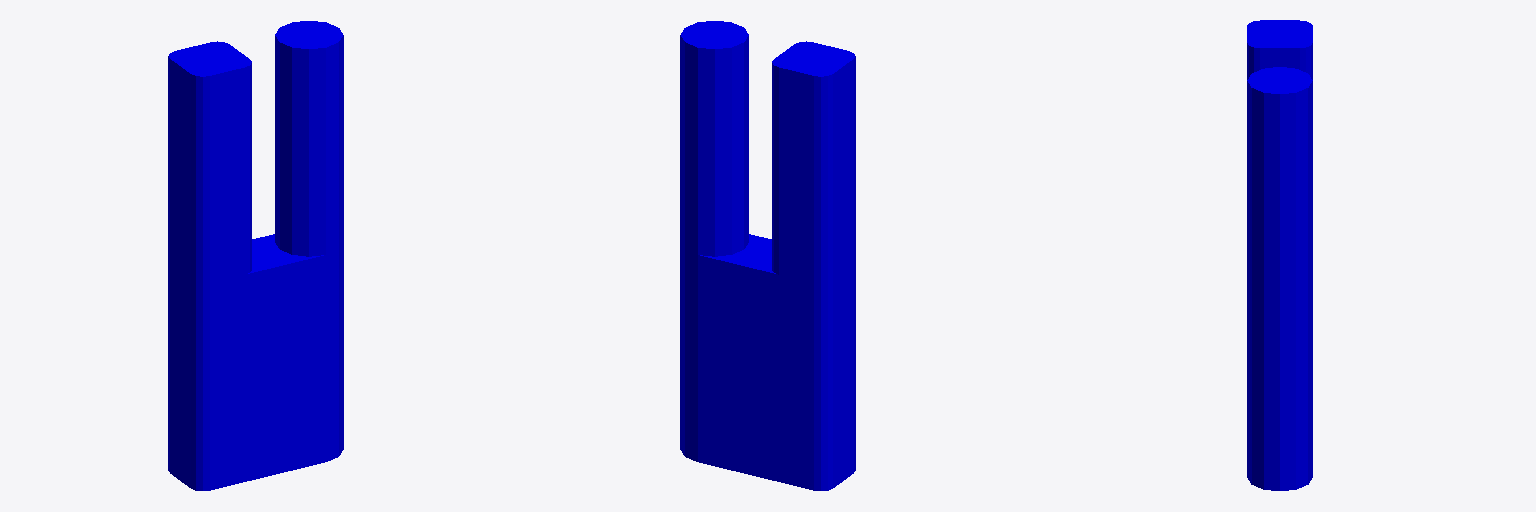
URDF robot description (Small_Short_SquareCircle_DarkBlue):
<?xml version="1.0"?>
<robot name="Small_Short_SquareCircle_DarkBlue">
    <link name="Small_Short_SquareCircle_DarkBlue">
        <visual>
            <geometry>
                <mesh filename="../mesh/factory_insertion/Small_Short_SquareCircle_DarkBlue.obj" scale="0.001 0.001 0.001"/>
            </geometry>
            <material name="DarkBlue">
              <color rgba="0 0 1.0 0"/>
            </material>
        </visual>
        <collision>
            <geometry>
                <mesh filename="../mesh/factory_insertion/Small_Short_SquareCircle_DarkBlue.obj" scale="0.001 0.001 0.001"/>
            </geometry>
            <sdf resolution="512"/>
        </collision>
    </link>
</robot>

--- Render facts (derived) ---
3 views of the same robot in one strip: view 1: azimuth 30°, elevation 25°; view 2: azimuth 150°, elevation 25°; view 3: azimuth 270°, elevation 25° (orthographic).
Model Small_Short_SquareCircle_DarkBlue with 1 links and 0 joints (none), rooted at Small_Short_SquareCircle_DarkBlue, posed every joint at zero.
Visible links, largest first — view 1: Small_Short_SquareCircle_DarkBlue; view 2: Small_Short_SquareCircle_DarkBlue; view 3: Small_Short_SquareCircle_DarkBlue.
Boxes of the visible links, bbox=[...] form: Small_Short_SquareCircle_DarkBlue: bbox=[168, 21, 343, 490]; Small_Short_SquareCircle_DarkBlue: bbox=[680, 21, 855, 490]; Small_Short_SquareCircle_DarkBlue: bbox=[1247, 20, 1312, 490].
Bounding box of the posed robot: 0.04 × 0.015 × 0.1 m (x, y, z).
Meshes: 1 distinct files referenced, 1 mesh visuals loaded (1 OBJ).
